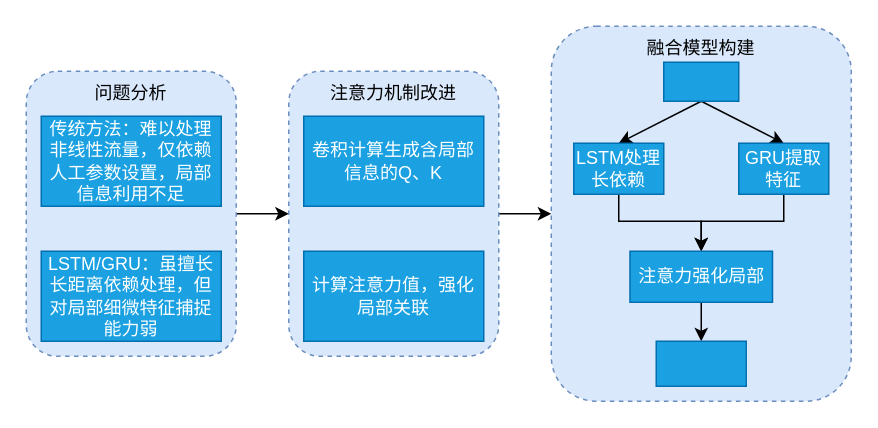
Image size: 878x428. Some labels were removed from this diagram. Here are the shapes that lost their labels. From the top down, the centre of each, then its label:
At [700,81]: "输入".
At [700,363]: "整合输出".
